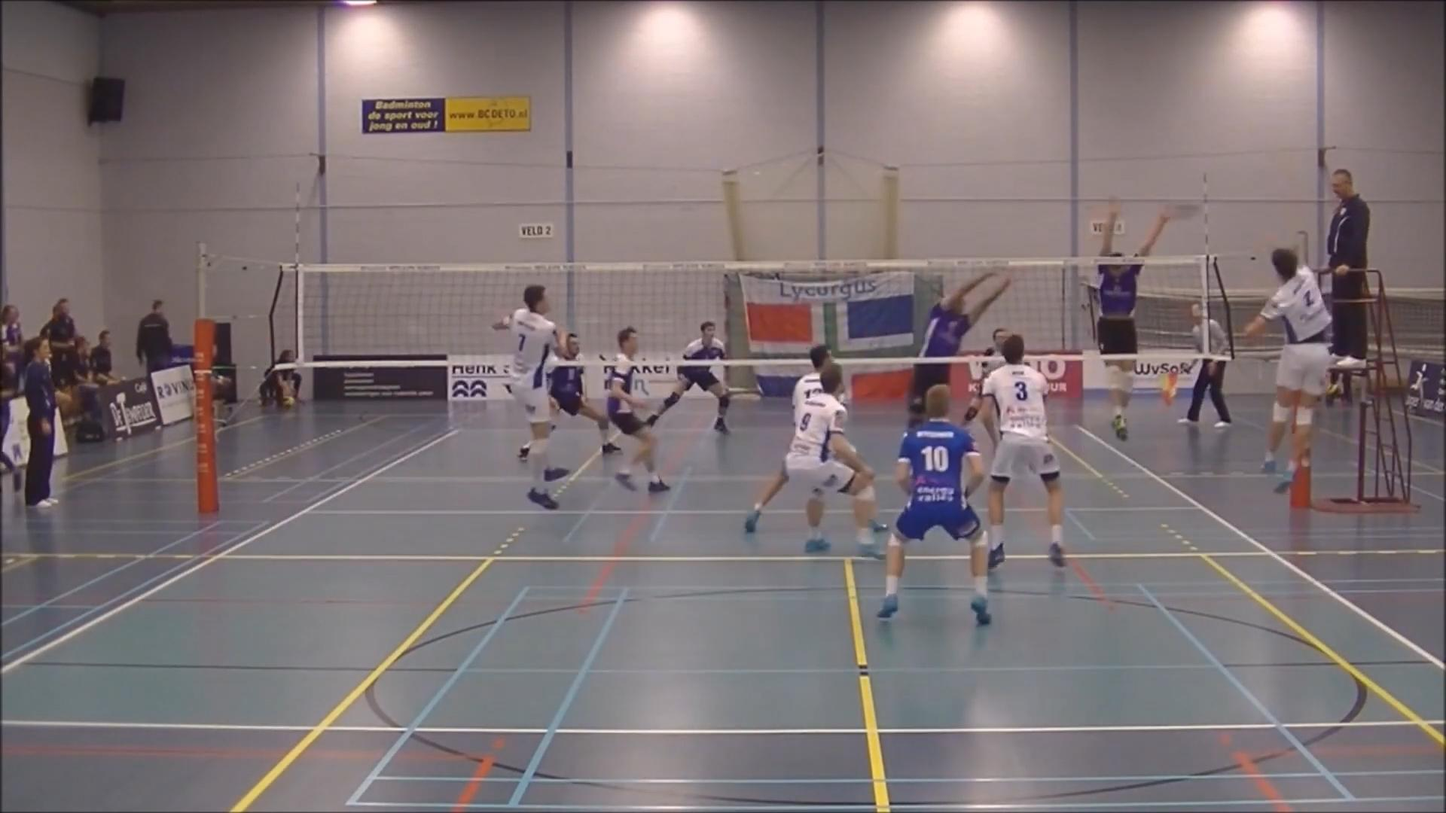Attack: (1225, 234, 1349, 497)
Block: (1087, 182, 1180, 445), (911, 240, 1011, 416)
Player: (877, 385, 990, 624), (970, 334, 1064, 567), (785, 361, 883, 558), (494, 285, 568, 509), (607, 327, 669, 493), (548, 365, 620, 455), (648, 364, 730, 434), (792, 345, 831, 427), (979, 327, 1010, 387)
